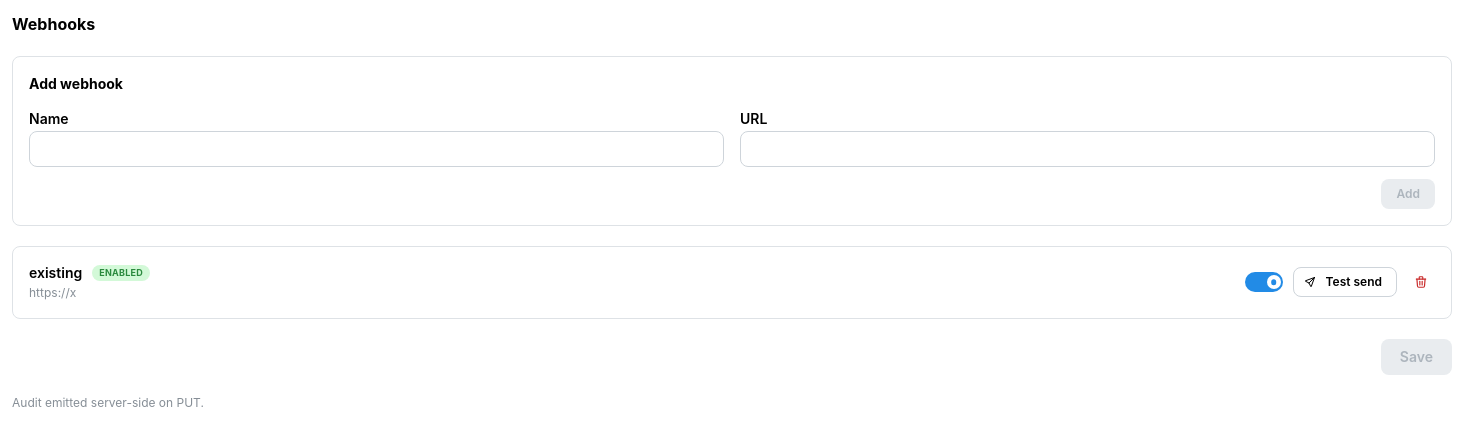
Test: IntegrationsRealSection (T8) › renders test-send result on success
The width and height of the screenshot is (1464, 443).
Step 1. Click the button with test id "integrations-real-test-wh-1" → coordinates (1345, 282), box [1293,267,1397,297]
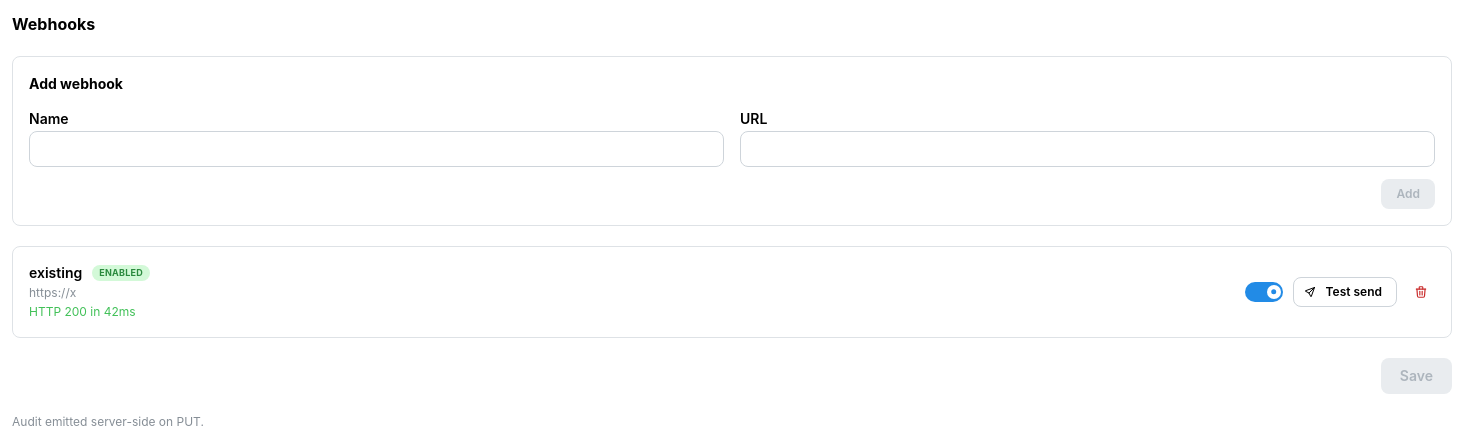
Result: the text "HTTP 200 in 42ms" is shown at [29,304,150,321]
